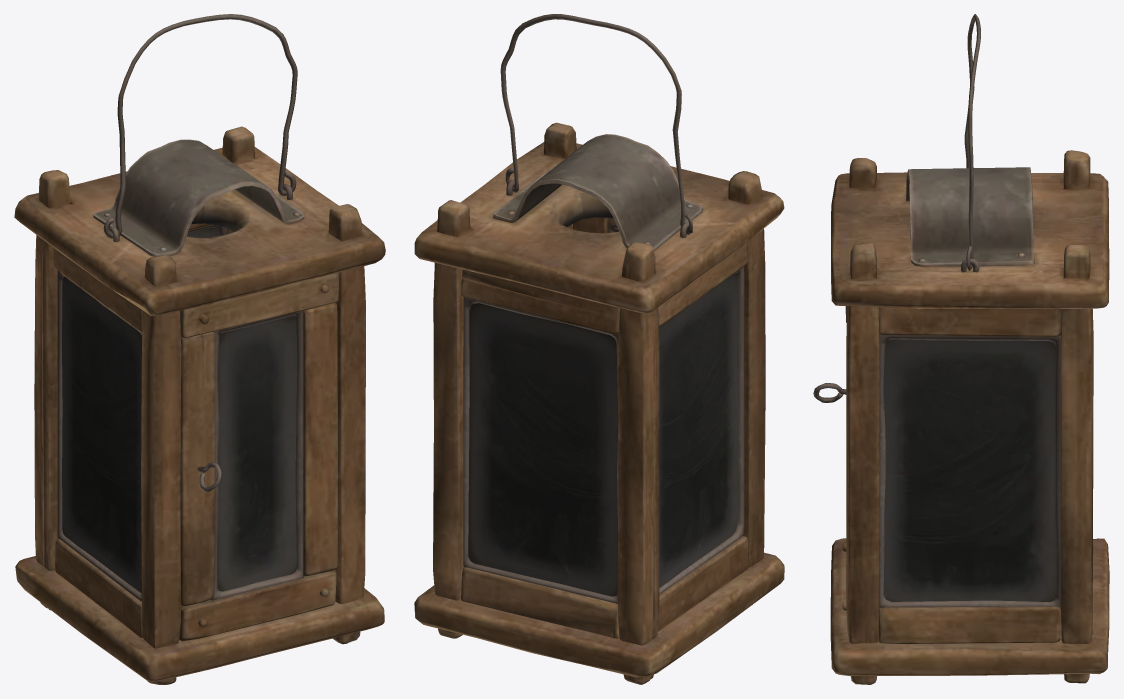
File: wooden_lantern_01.glb
3 views of the same model, side by side, from view 1: azimuth 30°, elevation 25°; view 2: azimuth 150°, elevation 25°; view 3: azimuth 270°, elevation 25° (orthographic).
Parts seen in each view (by area): view 1: wooden_lantern_01, wooden_lantern_01_door, wooden_lantern_01_handle; view 2: wooden_lantern_01, wooden_lantern_01_handle, wooden_lantern_01_door; view 3: wooden_lantern_01, wooden_lantern_01_handle, wooden_lantern_01_door.
Boxes of the visible parts, <box> form: wooden_lantern_01: <box>14,126,385,684</box>; wooden_lantern_01_door: <box>179,272,339,641</box>; wooden_lantern_01_handle: <box>103,14,297,238</box>; wooden_lantern_01: <box>414,122,784,684</box>; wooden_lantern_01_handle: <box>500,14,692,234</box>; wooden_lantern_01_door: <box>573,217,618,233</box>; wooden_lantern_01: <box>830,150,1109,684</box>; wooden_lantern_01_handle: <box>964,14,980,270</box>; wooden_lantern_01_door: <box>813,306,847,610</box>.
Bounding box in the file's own units: 0.2211 × 0.5301 × 0.2347.
2 materials, 2 textured.
